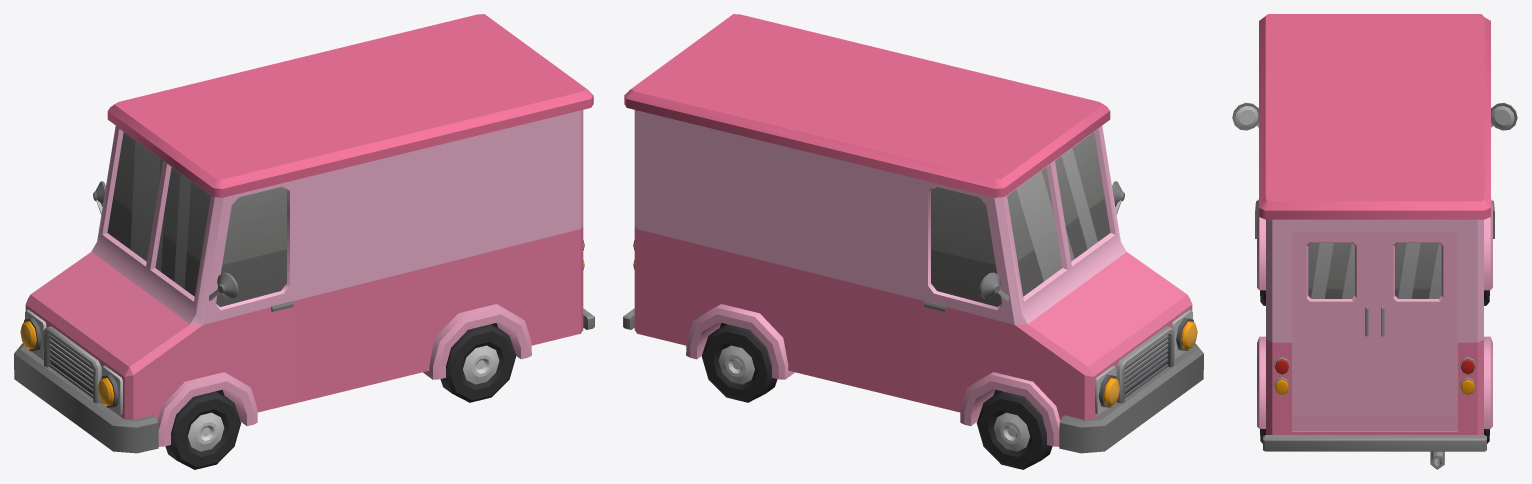
Rendered from Car_16_D.gltf.
The picture shows the model from 3 angles, left to right: view 1: azimuth 30°, elevation 25°; view 2: azimuth 150°, elevation 25°; view 3: azimuth 270°, elevation 25°; orthographic projection. The views are drawn at different scales.
Visible parts, largest first — view 1: Car_16_D, RL, FL; view 2: Car_16_D, RR, FR; view 3: Car_16_D.
Part boxes in pixels (x1,y1,x2,y2): Car_16_D: [14, 14, 594, 453]; RL: [440, 324, 516, 402]; FL: [165, 391, 241, 469]; Car_16_D: [623, 14, 1203, 453]; RR: [701, 324, 777, 402]; FR: [976, 391, 1052, 469]; Car_16_D: [1232, 14, 1517, 469].
Size of the model in its own units: 3.66 by 2.04 by 1.8.
4 materials, 4 textured.
